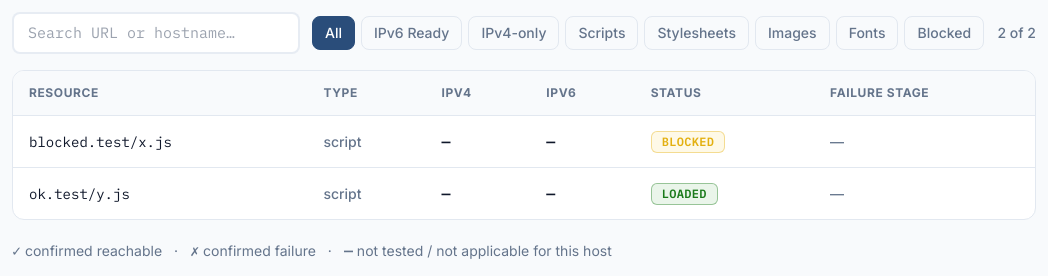
Scenario: ResourceTable › the Blocked filter selects resources whose load_status or verdict is BLOCKED
The image size is (1048, 276).
Click the button "Blocked" at (944, 33), box x1=904 y1=16 x2=984 y2=50
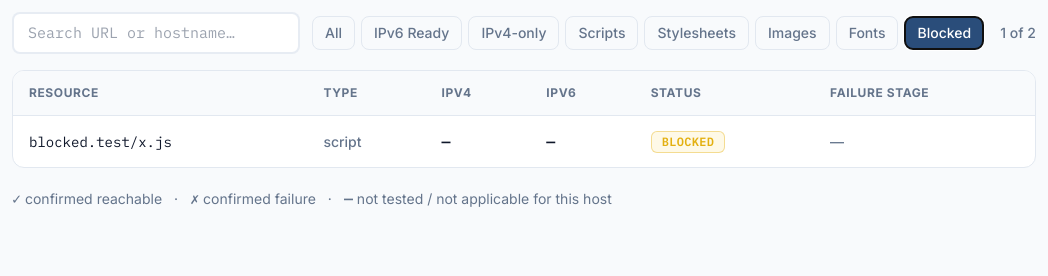
Expected: the text "blocked.test/x.js" is shown, x1=13 y1=116 x2=307 y2=167
Now the text "ok.test/y.js" is gone
